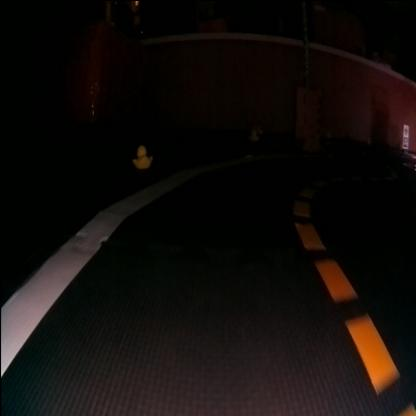Duckie: (132, 145, 152, 167), (256, 124, 261, 131), (252, 128, 256, 136), (325, 130, 329, 136)
